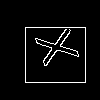X: (25, 25, 80, 72)
